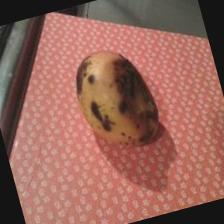Mango Rotten: (66, 38, 169, 158)
